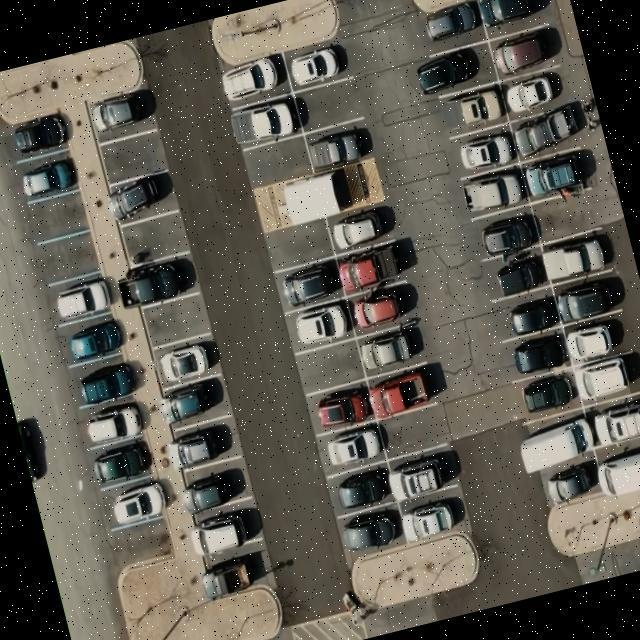space-empty: (112, 208, 189, 270), (529, 184, 606, 244), (376, 402, 452, 460), (292, 76, 366, 134), (262, 215, 336, 273), (138, 292, 211, 350), (294, 338, 366, 396), (32, 228, 104, 286), (242, 134, 314, 190), (97, 128, 167, 184), (24, 189, 92, 245), (106, 516, 173, 570)
space-occupied: (516, 409, 599, 478), (536, 225, 620, 289), (184, 499, 266, 564), (117, 251, 200, 314), (323, 196, 401, 262), (344, 276, 422, 342), (228, 90, 304, 156), (412, 40, 497, 99), (280, 36, 358, 96), (507, 366, 583, 427), (432, 81, 508, 142), (74, 393, 150, 454), (365, 360, 441, 421), (284, 296, 356, 360), (496, 64, 572, 124), (148, 332, 222, 392), (570, 346, 640, 409), (486, 23, 562, 81), (520, 148, 593, 208), (198, 540, 270, 600), (509, 105, 583, 163), (396, 486, 470, 544), (178, 456, 252, 514), (218, 49, 293, 106), (99, 474, 170, 534), (56, 312, 128, 371), (45, 268, 118, 326), (457, 162, 530, 220), (386, 444, 460, 501), (552, 268, 626, 325), (470, 204, 540, 264), (168, 414, 240, 472), (498, 326, 572, 382), (274, 256, 345, 314), (306, 379, 376, 437), (302, 118, 372, 176), (491, 285, 562, 342), (69, 355, 141, 411), (88, 86, 160, 142), (107, 168, 176, 226), (318, 419, 388, 476), (336, 499, 406, 556), (583, 388, 640, 458), (561, 309, 631, 366), (332, 240, 404, 295), (160, 378, 232, 433), (451, 123, 520, 180), (14, 148, 81, 206), (86, 435, 157, 489), (326, 461, 394, 515), (416, 0, 485, 53), (3, 111, 71, 163), (590, 429, 640, 495), (487, 249, 549, 300), (356, 332, 426, 377), (537, 458, 602, 506), (474, 0, 553, 38)
